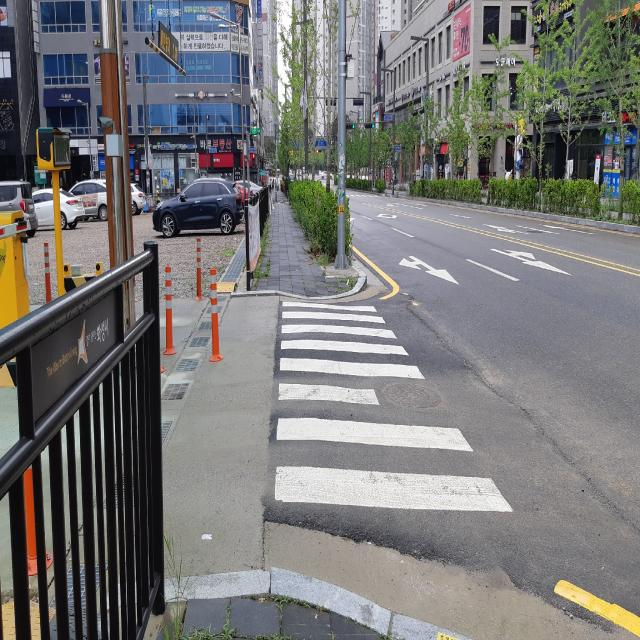횡단보도: (272, 300, 516, 517)
